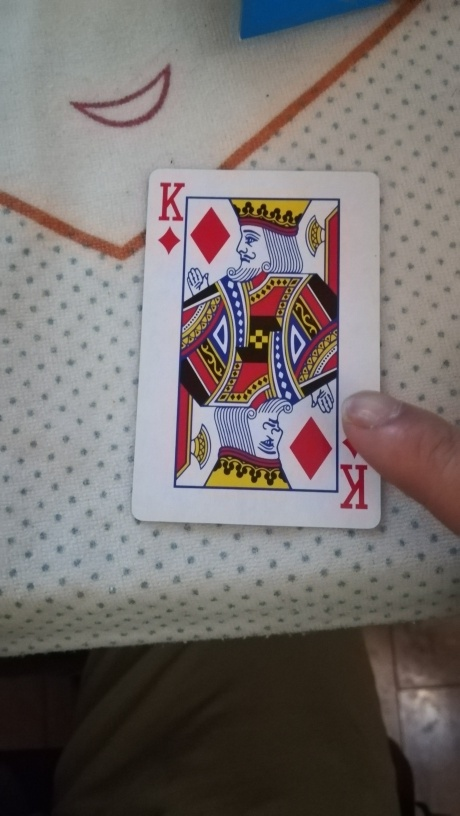fk k: (129, 169, 383, 536)
